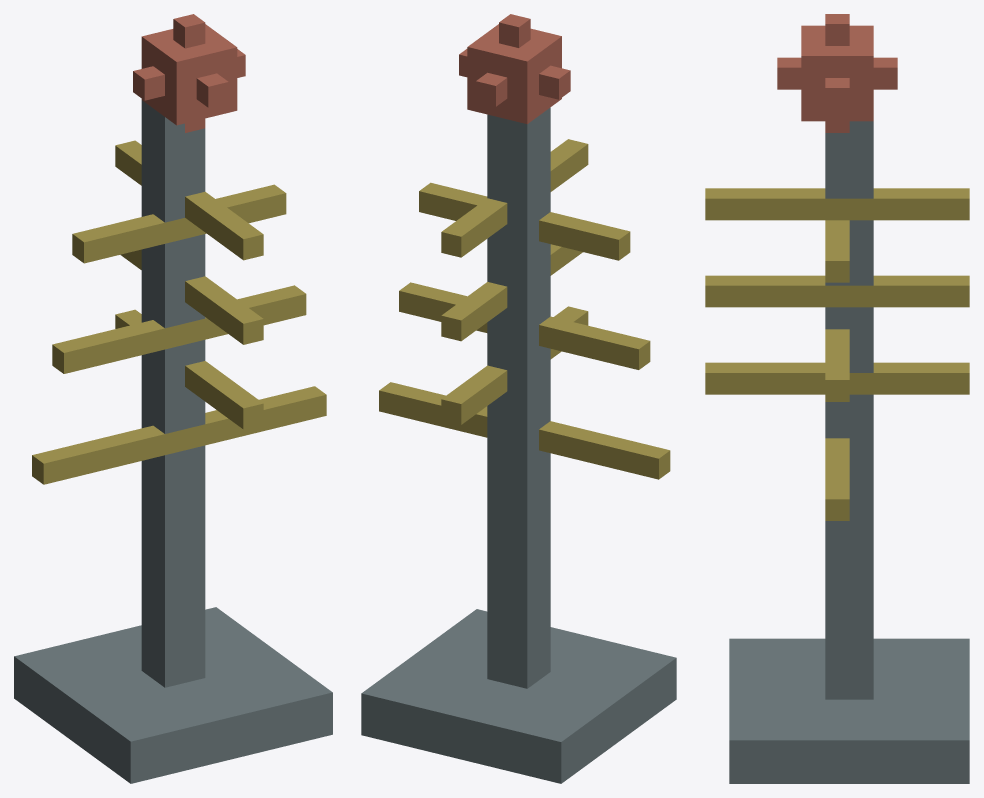
The model's file is energy-05.glb.
3 renders of one model, left to right at view 1: azimuth 30°, elevation 25°; view 2: azimuth 150°, elevation 25°; view 3: azimuth 270°, elevation 25°, orthographic. The views are drawn at different scales.
Parts seen in each view (by area): view 1: Grid pylon; view 2: Grid pylon; view 3: Grid pylon.
Part boxes in pixels (bbox=[...]): Grid pylon: bbox=[14, 14, 332, 783]; Grid pylon: bbox=[361, 14, 676, 783]; Grid pylon: bbox=[705, 14, 969, 783].
Bounding box in the file's own units: 1.12 × 2.64 × 0.88.
